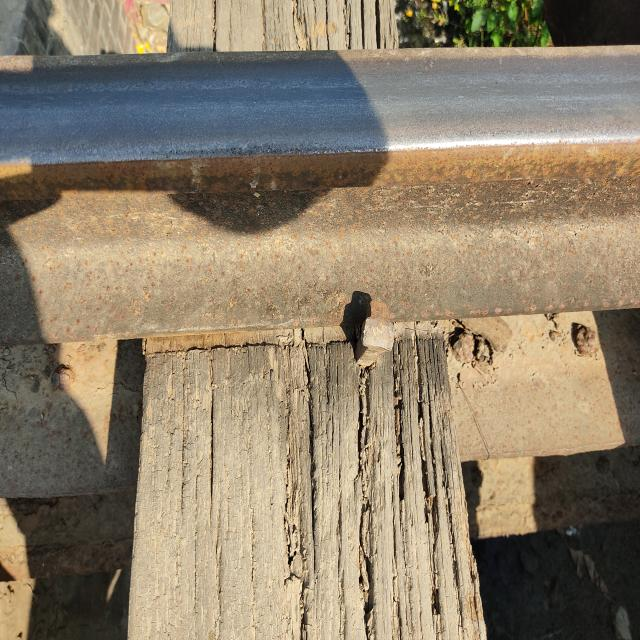non-defective: (151, 28, 472, 250)
